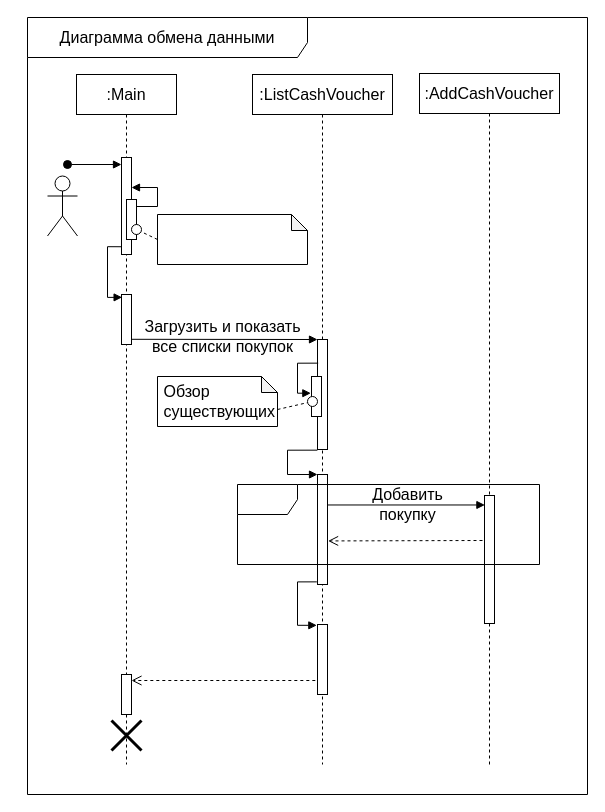
Some shapes in this 605 by 812 pixel diagram are drawn without their labels. Here are the shapes that lost their labels. From the top down, the centre of each, then its label:
At (x=232, y=239): "Аутентификация по номеру телефона".
At (x=388, y=524): "loop".
